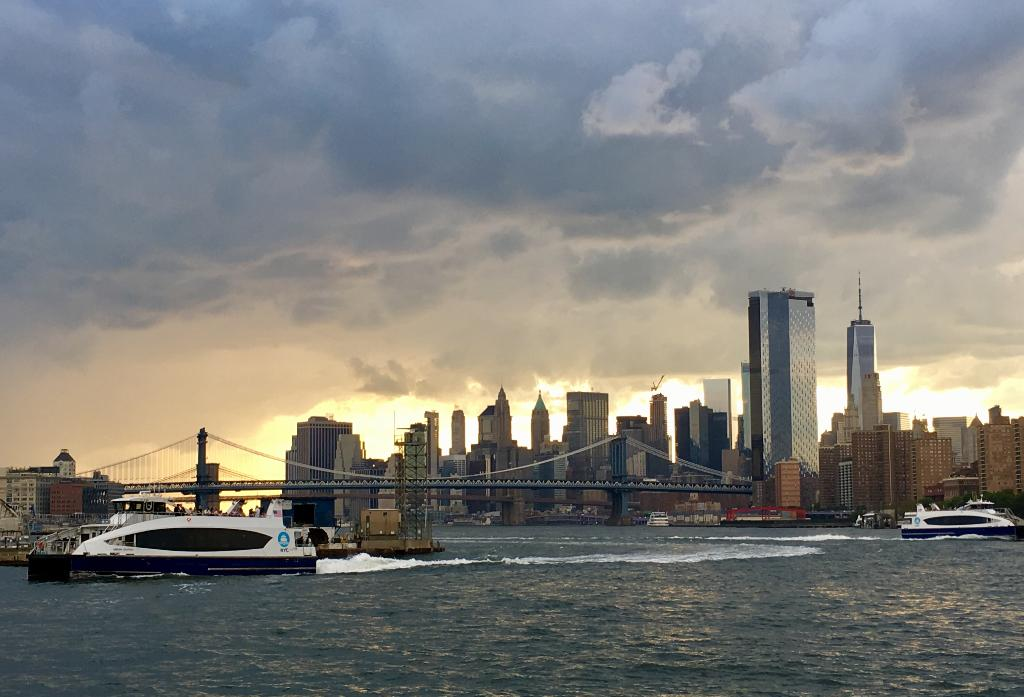PassengerShip: (28, 499, 336, 581), (892, 494, 1024, 547)
